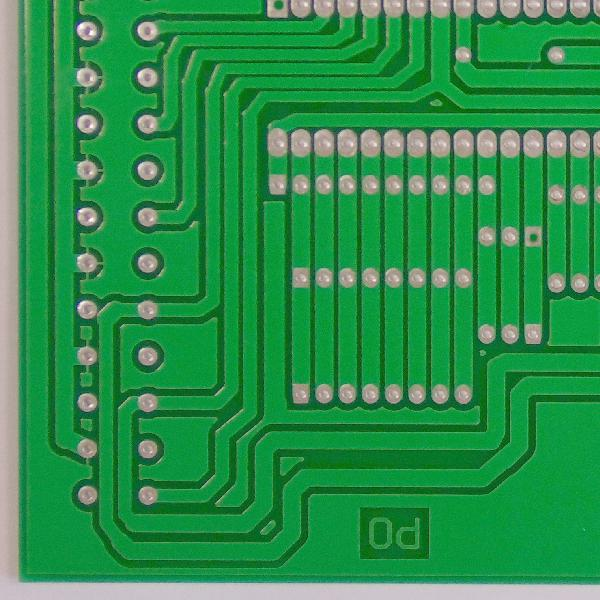missing_hole: (523, 226, 546, 247), (268, 1, 289, 22)
